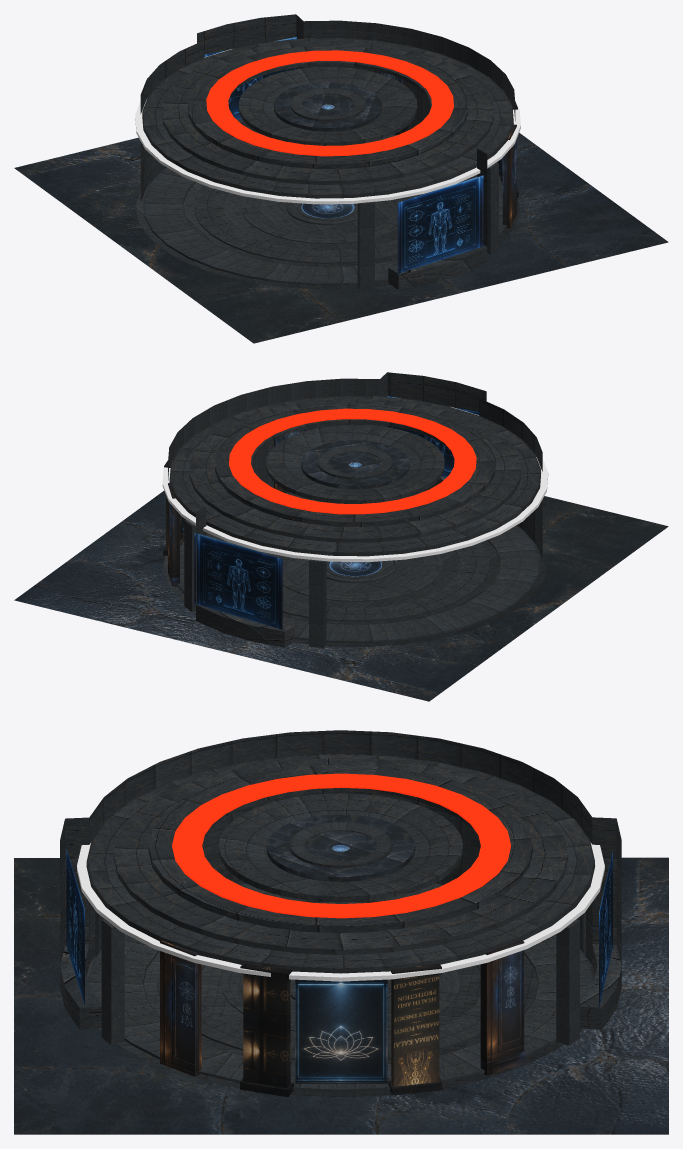
Rendered from Environment_Room.fbx.
3 views of the same model, one above another, from view 1: azimuth 30°, elevation 25°; view 2: azimuth 150°, elevation 25°; view 3: azimuth 270°, elevation 25° (orthographic). The views are drawn at different scales.
Visible parts, largest first — view 1: Plane, Wall, Selling_Two, Selling_one, Selling_Three, Floor_Ring, Selling_Emmision_Three, Selling_Four, Floor, Wall_Terminal_one, Floor_Ring_2, Selling_Six (+8 smaller); view 2: Plane, Wall, Selling_Two, Selling_one, Selling_Three, Floor_Ring, Selling_Emmision_Three, Selling_Four, Floor, Wall_Terminal, Floor_Ring_2, Selling_Six (+8 smaller); view 3: Plane, Wall, Selling_Two, Selling_one, Selling_Three, Selling_Emmision_Three, Selling_Four, Floor_Ring, Stone_Frame_Center, Floor, Stone_Frame_one, Stone_Frame_Two (+11 smaller).
Boxes of the visible parts, x1,y1,x2,y2 form: Plane: [14, 132, 668, 343]; Wall: [140, 14, 515, 289]; Selling_Two: [162, 40, 493, 184]; Selling_one: [142, 38, 513, 198]; Selling_Three: [187, 45, 468, 168]; Floor_Ring: [143, 133, 506, 285]; Selling_Emmision_Three: [206, 50, 453, 156]; Selling_Four: [238, 66, 417, 145]; Floor: [136, 174, 519, 289]; Wall_Terminal_one: [397, 175, 483, 274]; Floor_Ring_2: [193, 185, 437, 263]; Selling_Six: [273, 82, 382, 131]; Plane: [14, 491, 668, 701]; Wall: [168, 372, 542, 647]; Selling_Two: [189, 398, 521, 542]; Selling_one: [169, 396, 540, 556]; Selling_Three: [215, 403, 495, 526]; Floor_Ring: [176, 491, 540, 643]; Selling_Emmision_Three: [229, 408, 476, 514]; Selling_Four: [266, 424, 444, 503]; Floor: [163, 530, 546, 646]; Wall_Terminal: [194, 532, 282, 629]; Floor_Ring_2: [230, 543, 489, 621]; Selling_Six: [301, 440, 409, 489]; Plane: [14, 857, 668, 1134]; Wall: [60, 730, 621, 1029]; Selling_Two: [113, 757, 567, 954]; Selling_one: [86, 754, 594, 973]; Selling_Three: [148, 764, 532, 933]; Selling_Emmision_Three: [172, 773, 510, 918]; Selling_Four: [218, 793, 463, 902]; Floor_Ring: [88, 883, 593, 1091]; Stone_Frame_Center: [295, 979, 387, 1083]; Floor: [87, 902, 594, 1097]; Stone_Frame_one: [388, 963, 442, 1095]; Stone_Frame_Two: [240, 964, 294, 1097].
Bounding box in the file's own units: 1886 × 489 × 1886.
Materials: 34 (29 with a texture image).
